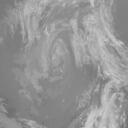cyclone: (41, 33, 71, 84)
